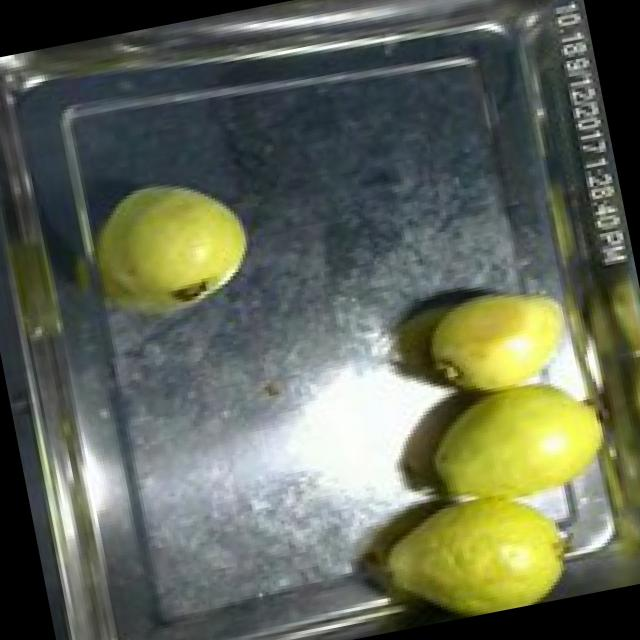Fruit: (406, 356, 638, 552), (362, 460, 595, 633), (83, 160, 268, 334), (402, 262, 594, 417)
